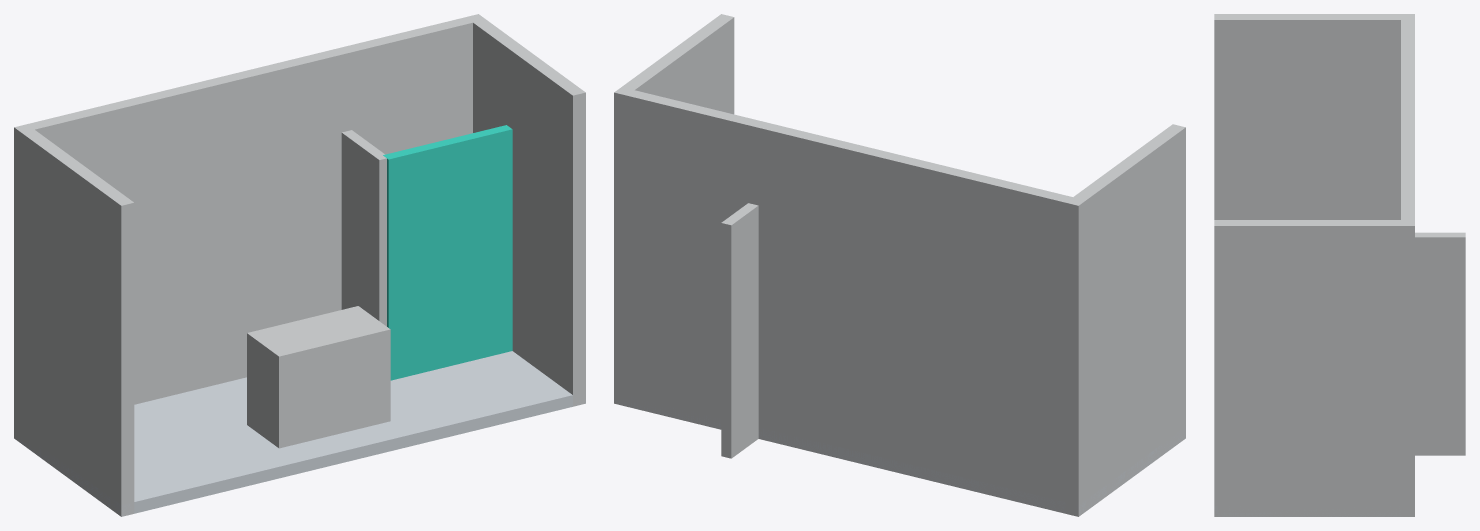
3 renders of one model, left to right at view 1: azimuth 30°, elevation 25°; view 2: azimuth 150°, elevation 25°; view 3: azimuth 270°, elevation 25°, orthographic. The views are drawn at different scales.
Parts seen in each view (by area): view 1: Exhibition Booth Concept; view 2: Exhibition Booth Concept; view 3: Exhibition Booth Concept.
Boxes of the visible parts, bbox=[...] form: Exhibition Booth Concept: bbox=[14, 14, 585, 516]; Exhibition Booth Concept: bbox=[614, 14, 1185, 516]; Exhibition Booth Concept: bbox=[1214, 14, 1465, 516].
Bounding box in the file's own units: 5 × 3.2 × 2.5.
